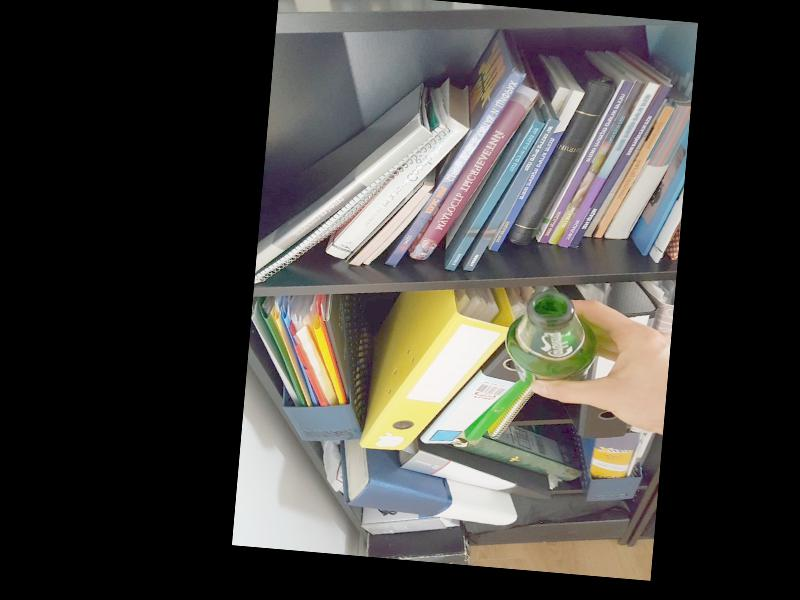Beer: (502, 290, 597, 391)
